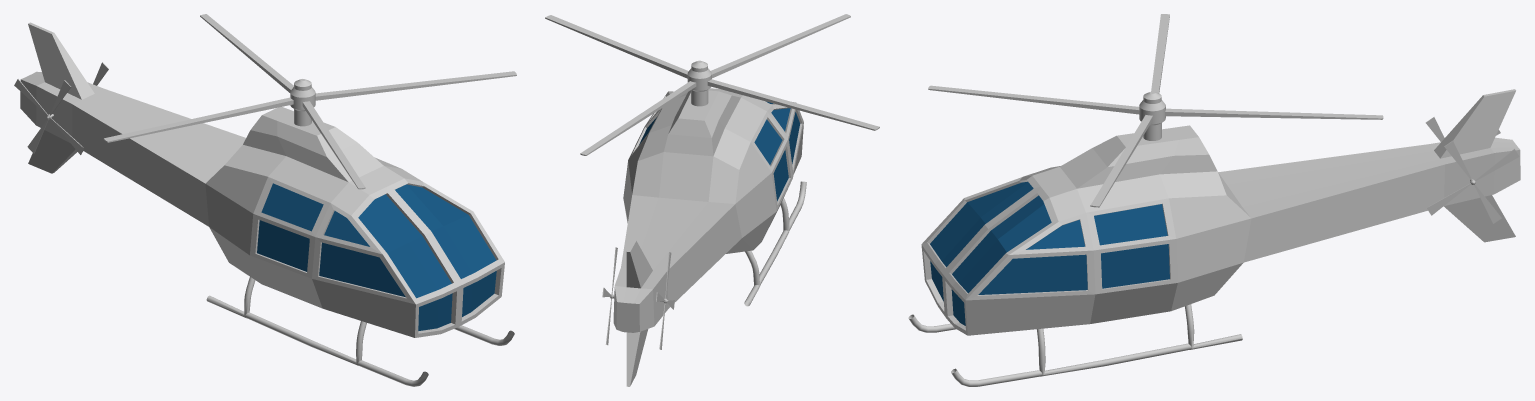
The model's file is helicopter_animation_000092.obj.
3 views of the same model, side by side, from view 1: azimuth 30°, elevation 25°; view 2: azimuth 150°, elevation 25°; view 3: azimuth 270°, elevation 25° (orthographic). The views are drawn at different scales.
Visible parts, largest first — view 1: Helicopter.007_Cylinder.008, Helicopter.001_Cylinder.001, Helicopter.004_Cylinder.005; view 2: Helicopter.007_Cylinder.008, Helicopter.001_Cylinder.001, Helicopter.004_Cylinder.005, Helicopter.003_Cylinder.004; view 3: Helicopter.007_Cylinder.008, Helicopter.001_Cylinder.001, Helicopter.003_Cylinder.004.
Boxes of the visible parts, x1,y1,x2,y2 form: Helicopter.007_Cylinder.008: (20,22,514,386); Helicopter.001_Cylinder.001: (103,14,516,189); Helicopter.004_Cylinder.005: (14,78,83,154); Helicopter.007_Cylinder.008: (613,88,806,386); Helicopter.001_Cylinder.001: (545,14,879,155); Helicopter.004_Cylinder.005: (656,252,674,349); Helicopter.003_Cylinder.004: (602,247,617,345); Helicopter.007_Cylinder.008: (908,89,1520,386); Helicopter.001_Cylinder.001: (928,14,1383,207); Helicopter.003_Cylinder.004: (1427,140,1519,223).
Bounding box in the file's own units: 5.51 × 3.2 × 7.42.
